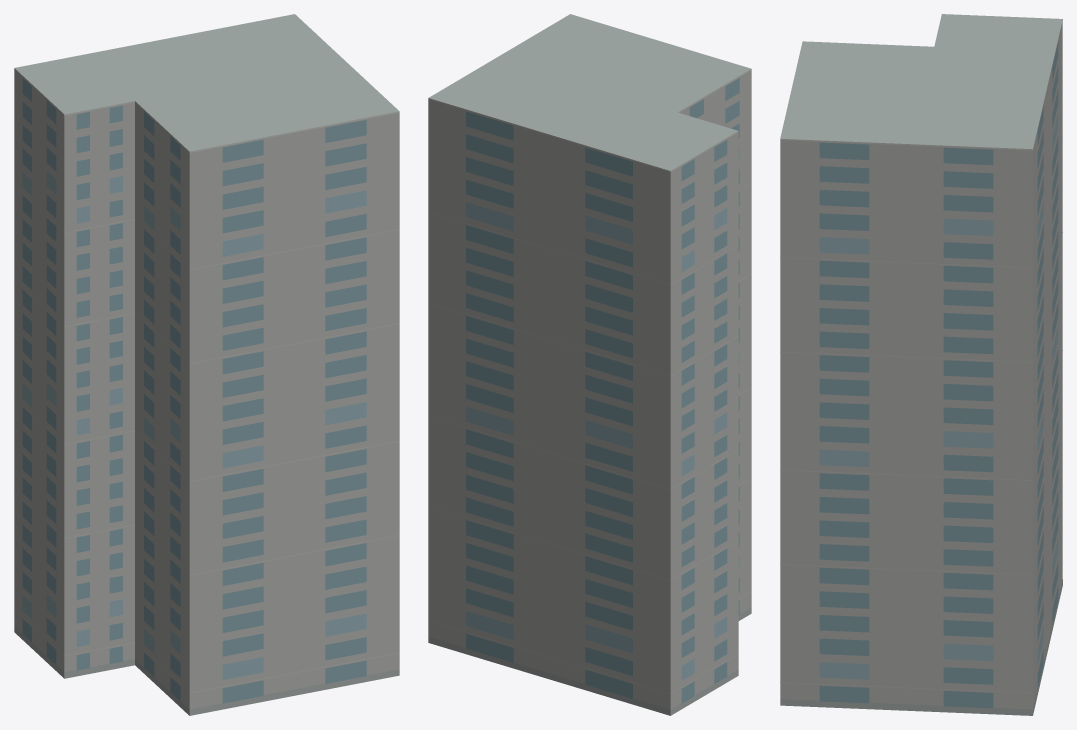
File: residential-0ef4f401-e65e-44ea-bf9f-5813f78bda20.glb
3 views of the same model, side by side, from view 1: azimuth 30°, elevation 25°; view 2: azimuth 150°, elevation 25°; view 3: azimuth 270°, elevation 25° (orthographic). The views are drawn at different scales.
Visible parts, largest first — view 1: residential-0ef4f401-e65e-44ea-bf9f-5813f78bda20.tmp; view 2: residential-0ef4f401-e65e-44ea-bf9f-5813f78bda20.tmp; view 3: residential-0ef4f401-e65e-44ea-bf9f-5813f78bda20.tmp.
Part boxes in pixels (<box>): residential-0ef4f401-e65e-44ea-bf9f-5813f78bda20.tmp: <box>14,14,399,715</box>; residential-0ef4f401-e65e-44ea-bf9f-5813f78bda20.tmp: <box>428,14,751,715</box>; residential-0ef4f401-e65e-44ea-bf9f-5813f78bda20.tmp: <box>780,14,1062,715</box>.
Bounding box in the file's own units: 47.6 × 93 × 42.06.
